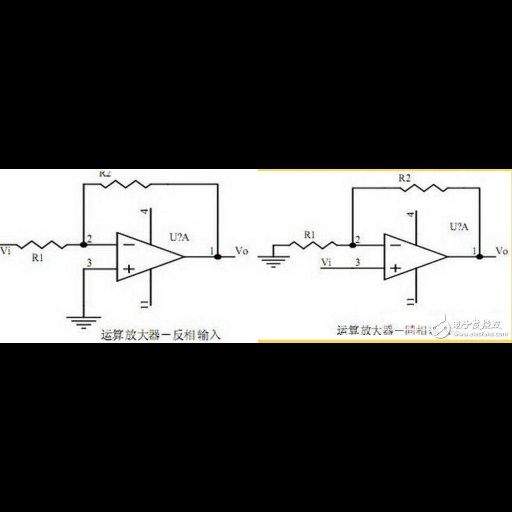amplifier: (112, 229, 187, 284), (379, 229, 449, 284)
gnd: (64, 314, 103, 330), (254, 254, 293, 268)
secondresistance: (395, 180, 453, 197), (97, 178, 156, 193), (14, 238, 70, 252), (287, 239, 339, 251)
